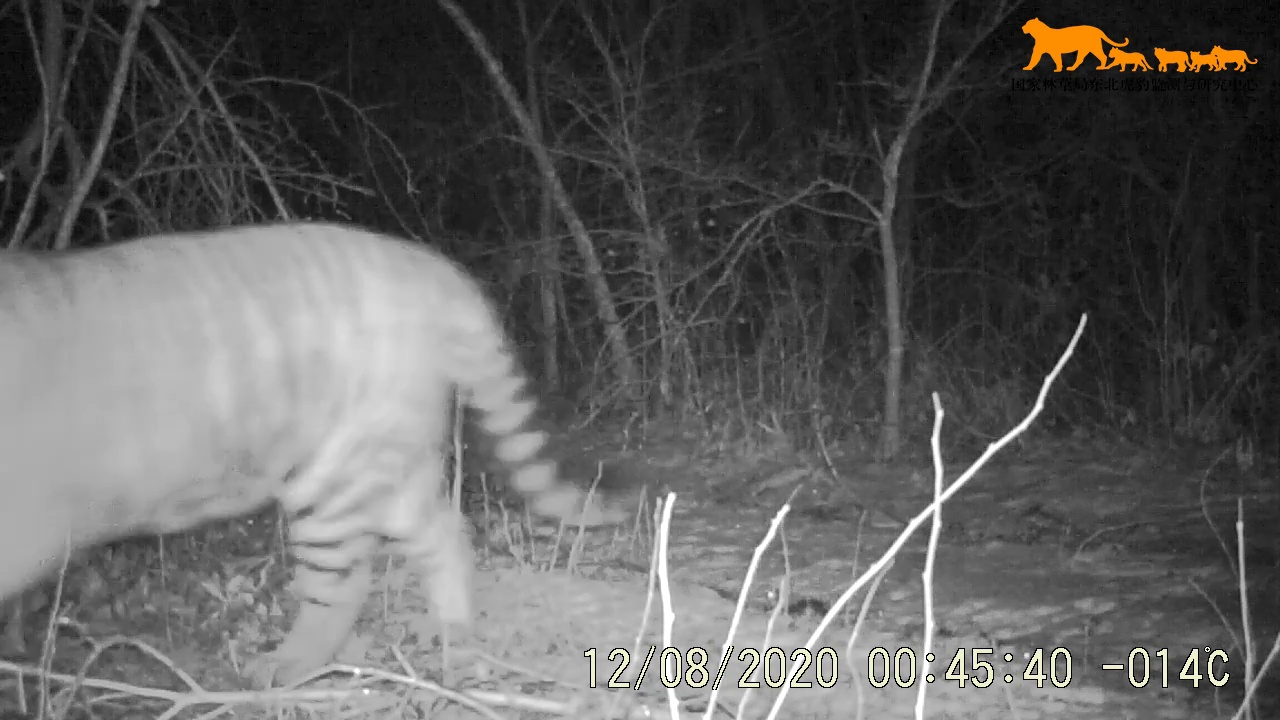Tiger: (1, 155, 631, 704)
